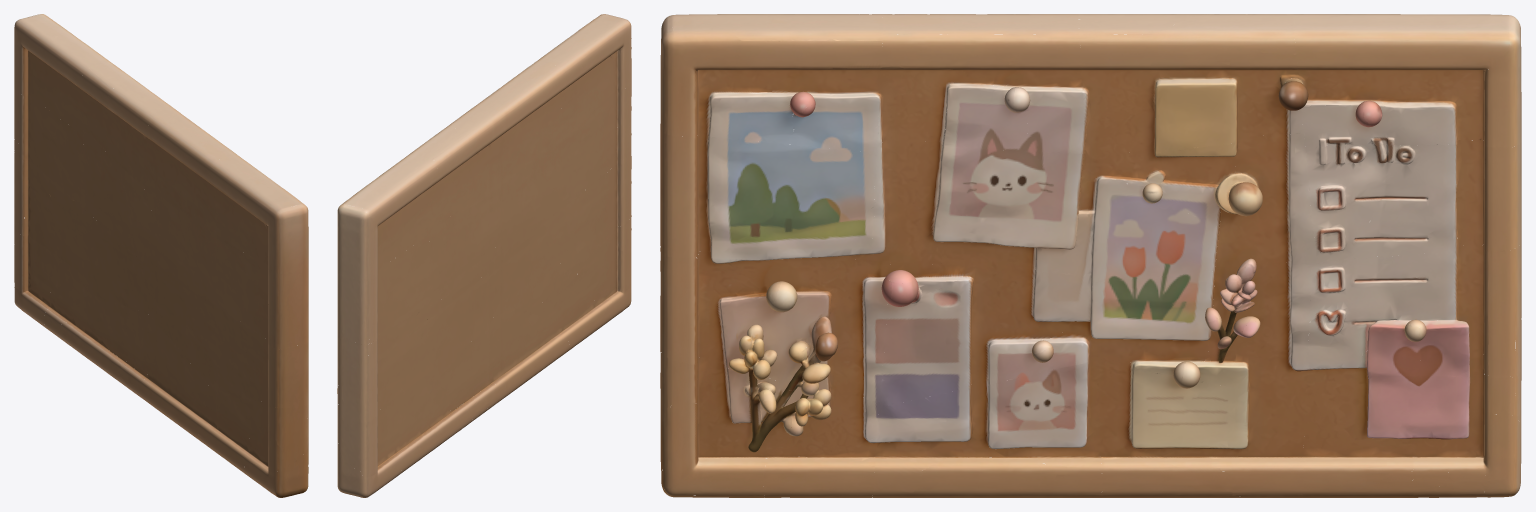
File: taskboard-447aa79d33c4.glb
The picture shows the model from 3 angles, left to right: view 1: azimuth 30°, elevation 25°; view 2: azimuth 150°, elevation 25°; view 3: azimuth 270°, elevation 25°; orthographic projection. The views are drawn at different scales.
Visible parts, largest first — view 1: tripo_node_55dc351c-0cd3-4c16-b003-b9b620940b82; view 2: tripo_node_55dc351c-0cd3-4c16-b003-b9b620940b82; view 3: tripo_node_55dc351c-0cd3-4c16-b003-b9b620940b82.
Boxes of the visible parts, bbox=[...] form: tripo_node_55dc351c-0cd3-4c16-b003-b9b620940b82: bbox=[14, 14, 308, 497]; tripo_node_55dc351c-0cd3-4c16-b003-b9b620940b82: bbox=[337, 14, 631, 497]; tripo_node_55dc351c-0cd3-4c16-b003-b9b620940b82: bbox=[660, 14, 1521, 497].
Bounding box in the file's own units: 0.1232 × 0.5986 × 1.
1 material, 1 textured.
